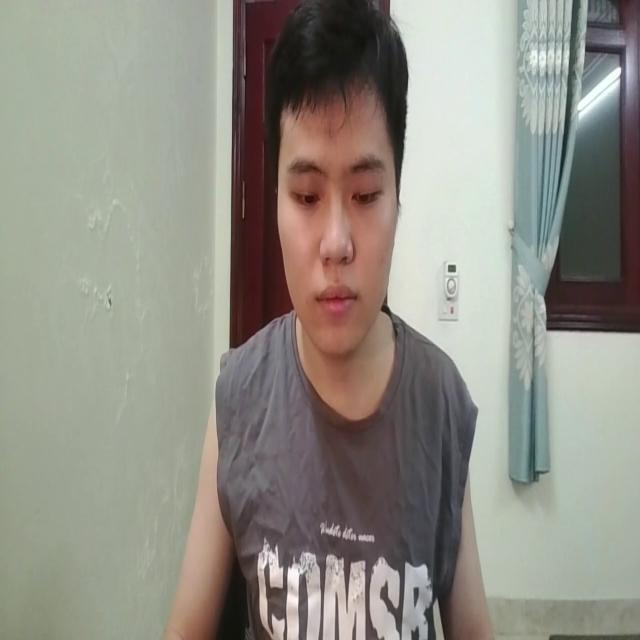student: (166, 0, 491, 640)
